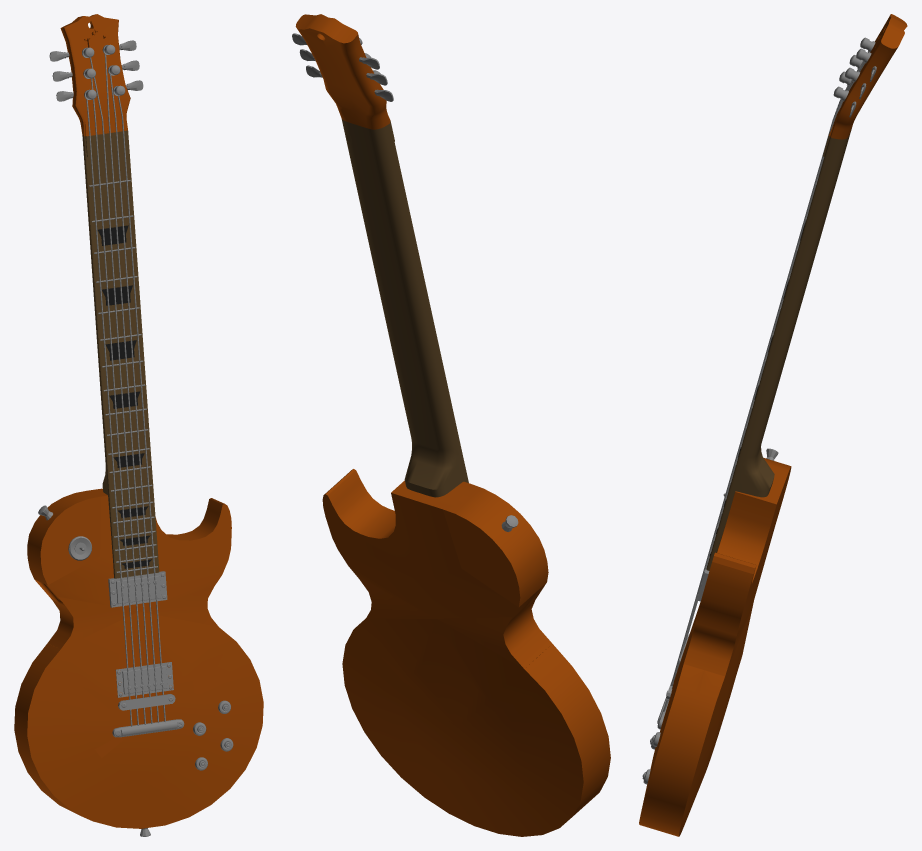
The model's file is gitar.fbx.
3 renders of one model, left to right at view 1: azimuth 30°, elevation 25°; view 2: azimuth 150°, elevation 25°; view 3: azimuth 270°, elevation 25°, orthographic. The views are drawn at different scales.
Visible parts, largest first — view 1: lespol:group3group2; view 2: lespol:group3group2; view 3: lespol:group3group2.
Boxes of the visible parts, x1,y1,x2,y2 form: lespol:group3group2: [14, 14, 263, 836]; lespol:group3group2: [292, 14, 610, 836]; lespol:group3group2: [639, 14, 907, 836].
Size of the model in its own units: 4.25 by 13.54 by 3.98.
